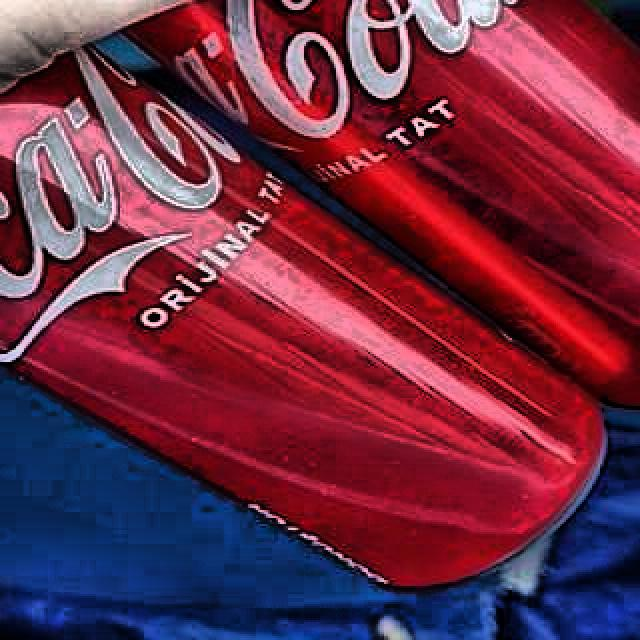metal: (0, 50, 597, 588), (133, 0, 640, 405)
